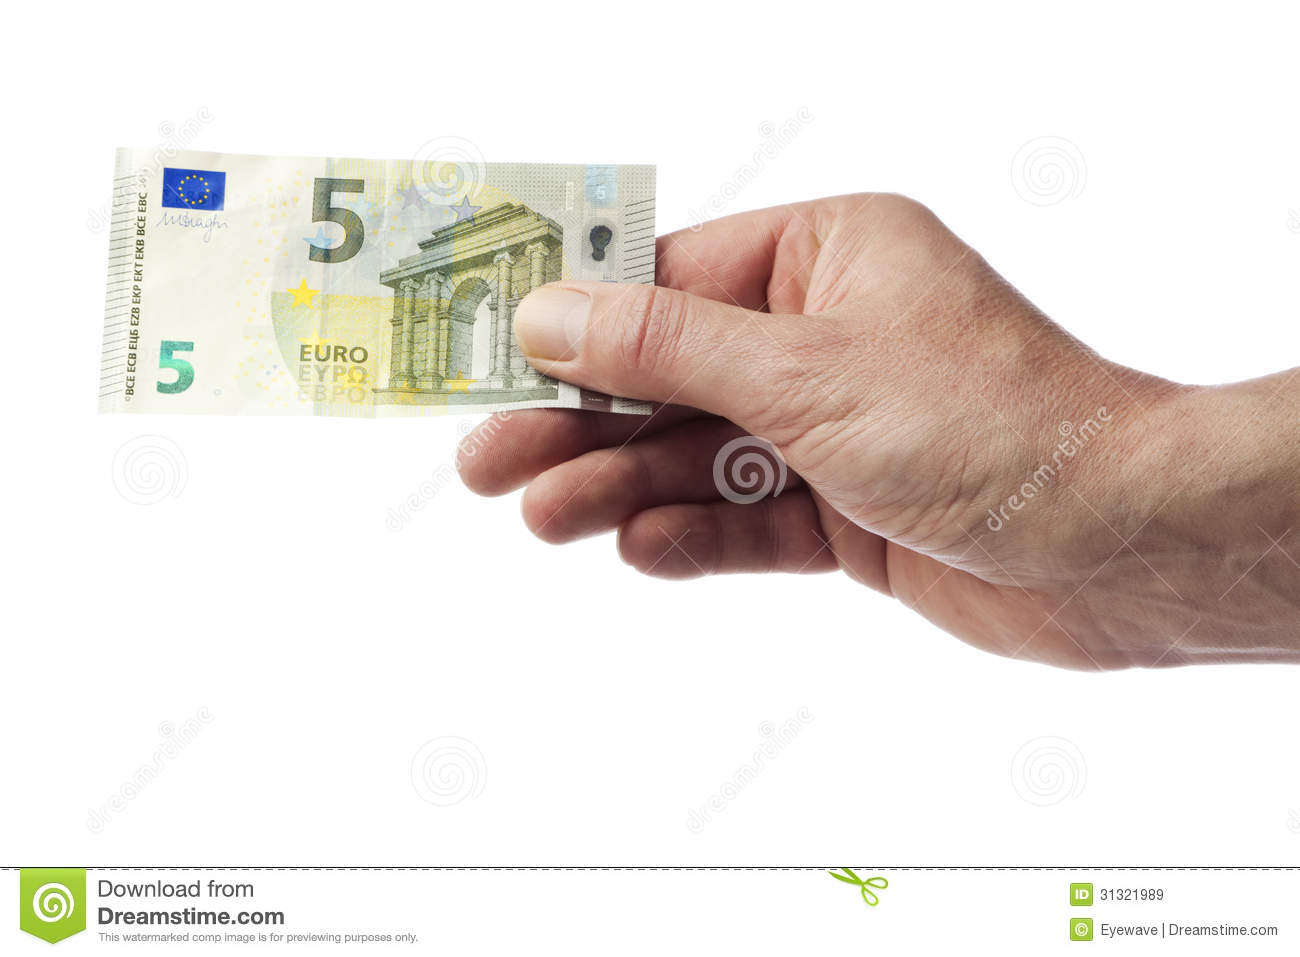billete: (94, 138, 660, 424)
